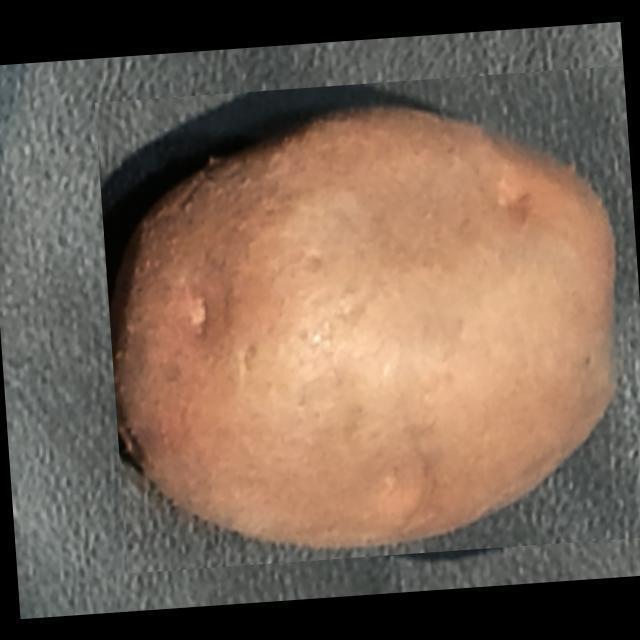potato: (94, 65, 640, 573)
